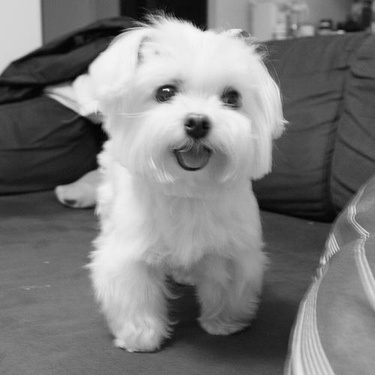dog: (35, 9, 292, 356)
